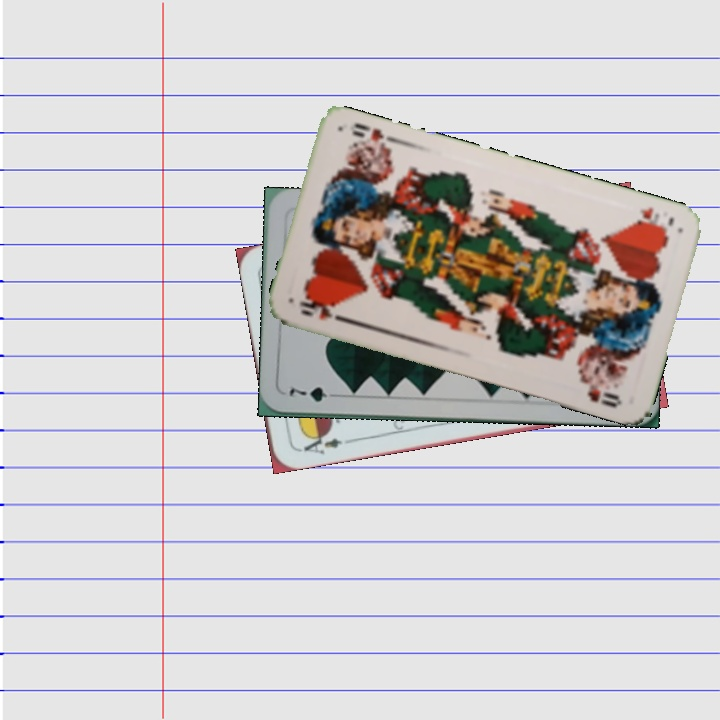EA: (294, 429, 345, 457)
G7: (284, 381, 343, 405)
HO: (628, 203, 676, 234), (296, 297, 349, 325)
